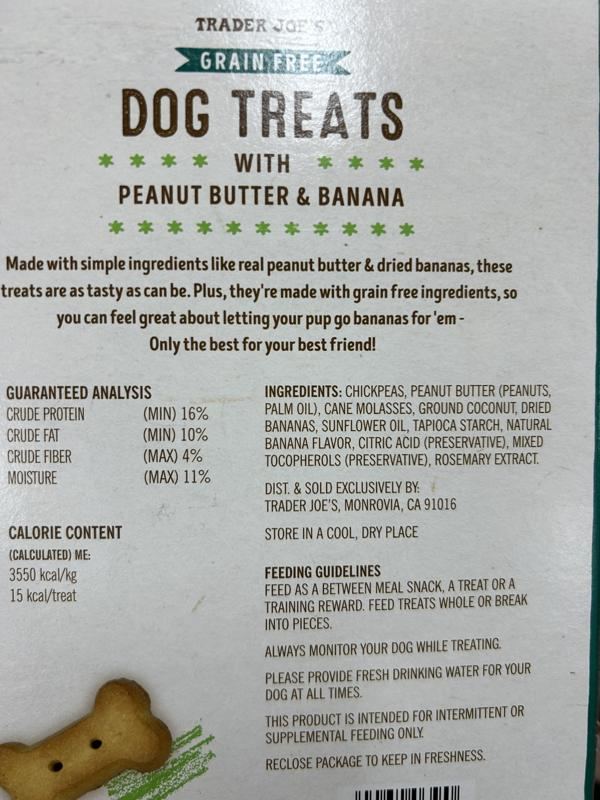ingredients: (263, 383, 552, 468)
